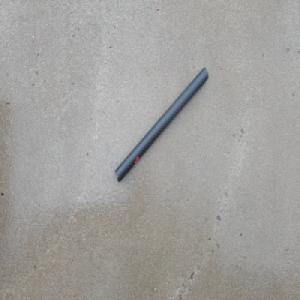LuggagePart: (113, 65, 208, 184)
